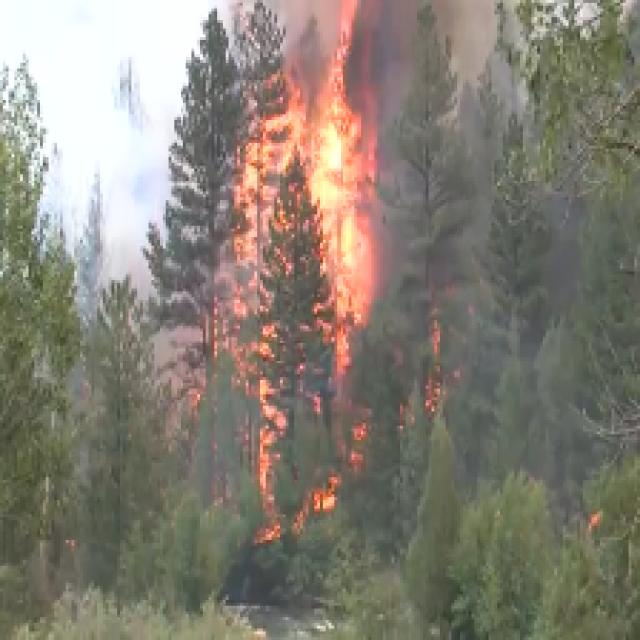fire: (322, 120, 365, 258)
smoke: (45, 16, 171, 203)
